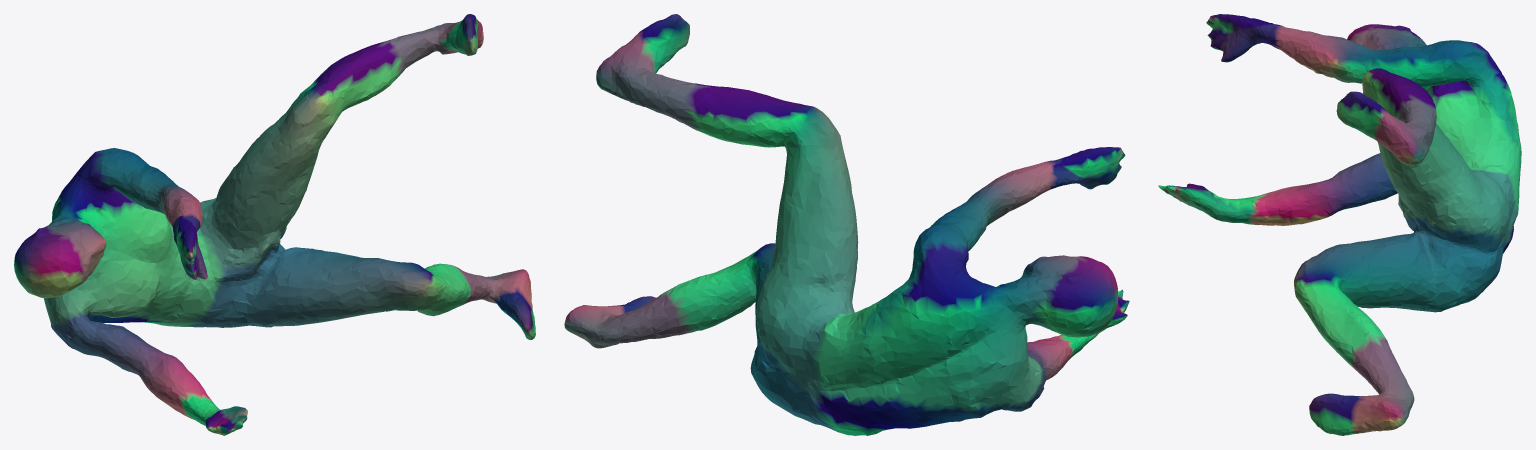
The model's file is man-9.off.obj.
3 renders of one model, left to right at view 1: azimuth 30°, elevation 25°; view 2: azimuth 150°, elevation 25°; view 3: azimuth 270°, elevation 25°, orthographic. The views are drawn at different scales.
Size of the model in its own units: 1.51 by 0.9038 by 0.9357.
